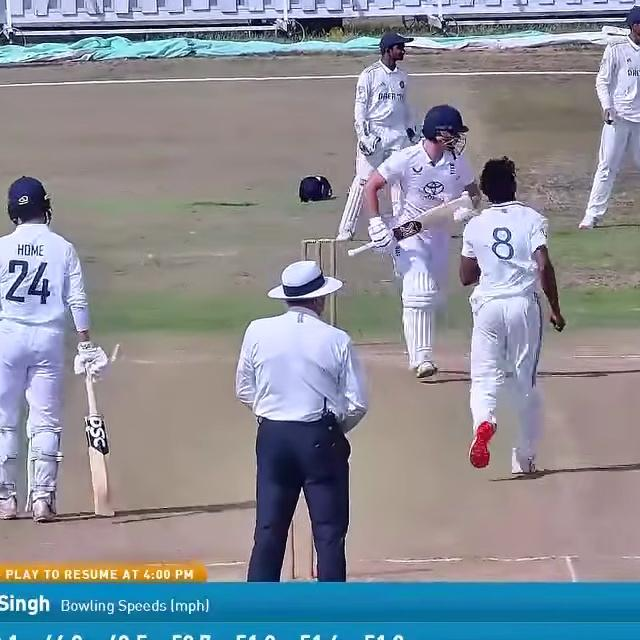umpire: (222, 252, 378, 582)
